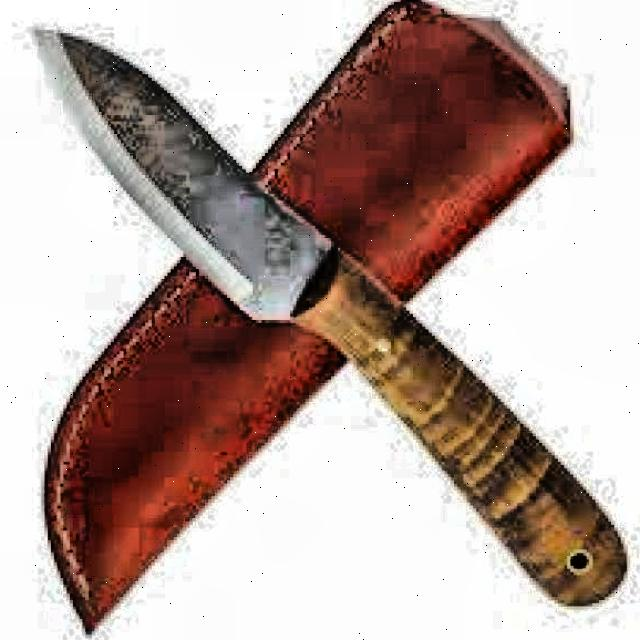knife: (32, 21, 636, 605)
